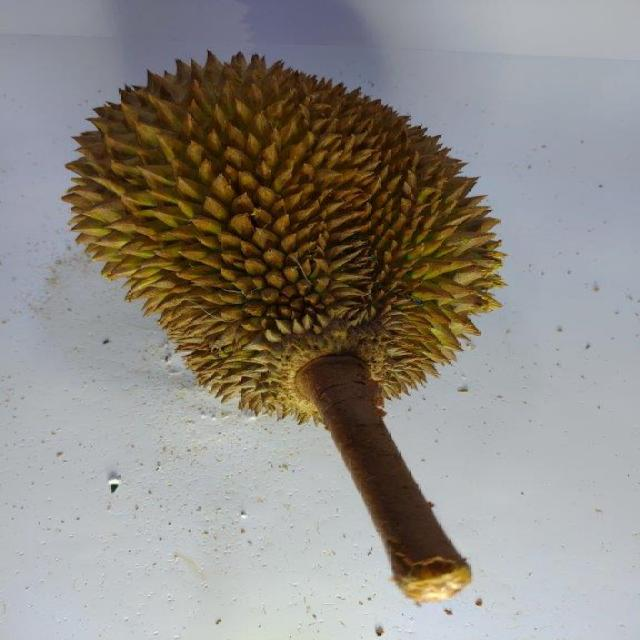mature: (63, 47, 514, 428)
